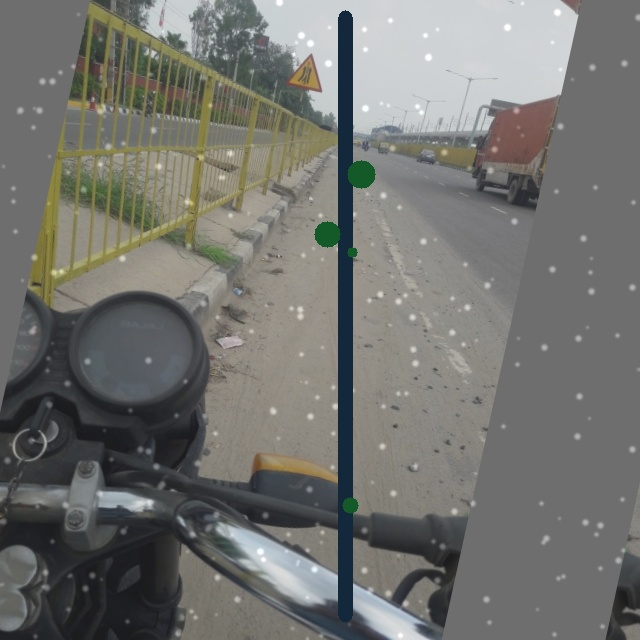Merge_Traffic_Ahead: (282, 42, 338, 101)
